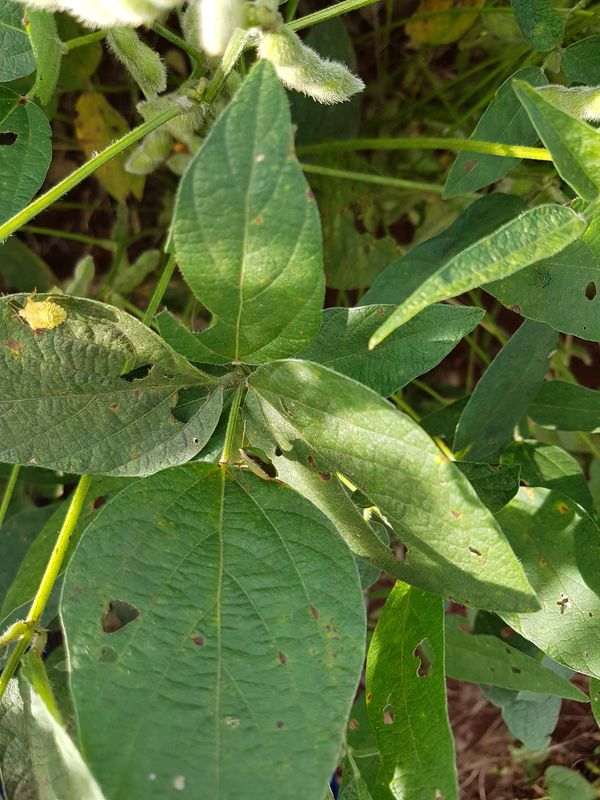Euschistus_heros_ninfa: (9, 281, 71, 340)
